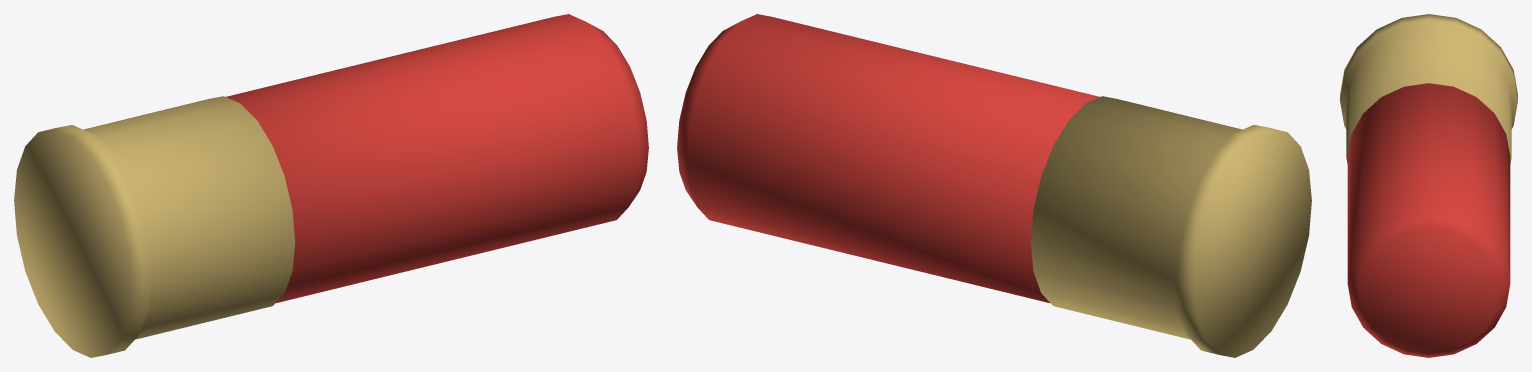
The model's file is SM_FX_ShellShotgun.glb.
3 views of the same model, side by side, from view 1: azimuth 30°, elevation 25°; view 2: azimuth 150°, elevation 25°; view 3: azimuth 270°, elevation 25° (orthographic). The views are drawn at different scales.
Visible parts, largest first — view 1: SM_FX_ShellShotgun; view 2: SM_FX_ShellShotgun; view 3: SM_FX_ShellShotgun.
Part boxes in pixels (x1,y1,x2,y2): SM_FX_ShellShotgun: (14, 14, 648, 357); SM_FX_ShellShotgun: (677, 14, 1311, 357); SM_FX_ShellShotgun: (1340, 14, 1517, 357).
Bounding box in the file's own units: 0.061 × 0.023 × 0.023.
